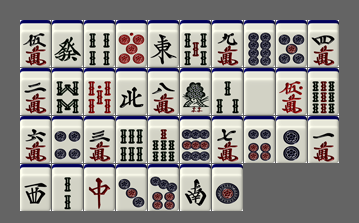0m: (276, 68, 307, 115)
0p: (116, 20, 147, 67)
0s: (84, 68, 115, 115)
1m: (308, 116, 339, 163)
1p: (212, 164, 243, 211)
1s: (180, 68, 211, 115)
1z: (148, 20, 179, 67)
2m: (20, 68, 51, 115)
2p: (276, 116, 307, 163)
2s: (52, 164, 83, 211)
2z: (180, 164, 211, 211)
3m: (84, 116, 115, 163)
3p: (116, 164, 147, 211)
3s: (212, 68, 243, 115)
3z: (20, 164, 51, 211)
4m: (308, 20, 339, 67)
4p: (52, 116, 83, 163)
4s: (84, 20, 115, 67)
4z: (116, 68, 147, 115)
5m: (20, 20, 51, 67)
5p: (276, 20, 307, 67)
5s: (180, 20, 211, 67)
5z: (244, 68, 275, 115)
6m: (20, 116, 51, 163)
6p: (244, 116, 275, 163)
6s: (116, 116, 147, 163)
6z: (52, 20, 83, 67)
7m: (212, 116, 243, 163)
7p: (148, 164, 179, 211)
7s: (148, 116, 179, 163)
7z: (84, 164, 115, 211)
8m: (148, 68, 179, 115)
8p: (244, 20, 275, 67)
8s: (52, 68, 83, 115)
9m: (212, 20, 243, 67)
9p: (180, 116, 211, 163)
9s: (308, 68, 339, 115)
